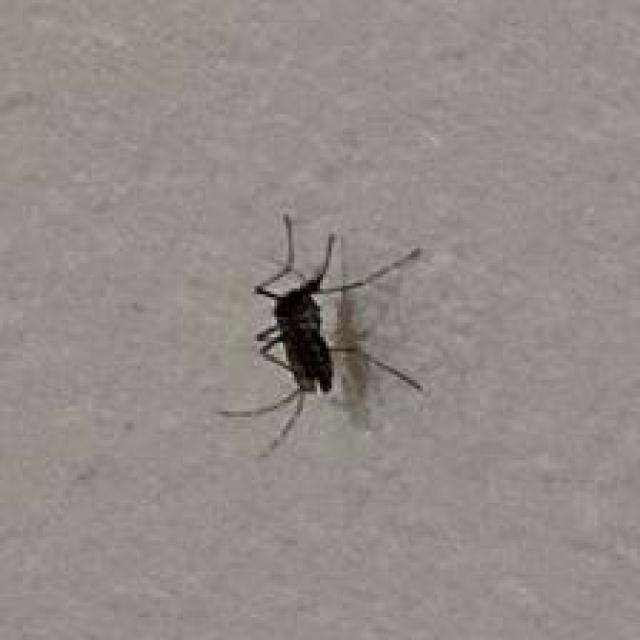Aedes albopictus: (216, 210, 427, 459)
